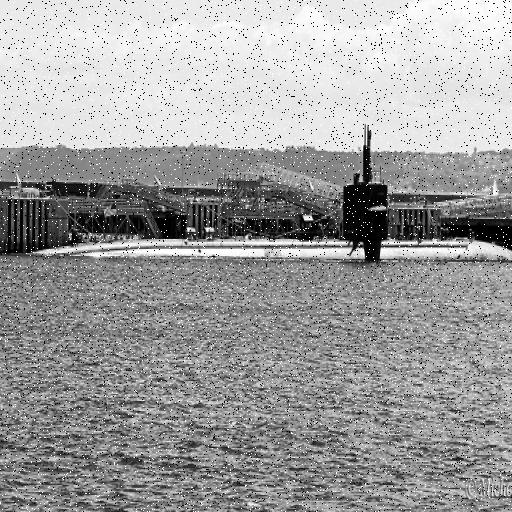submarine: (22, 167, 512, 258)
